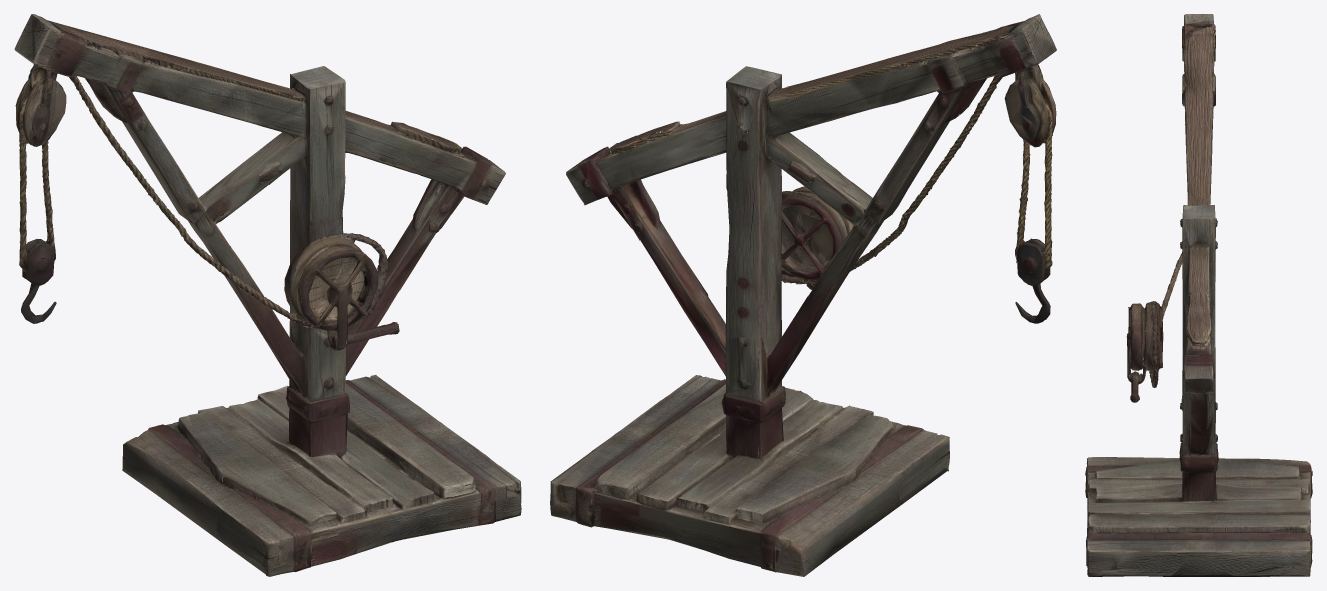
The model's file is timber-crane.glb.
3 renders of one model, left to right at view 1: azimuth 30°, elevation 25°; view 2: azimuth 150°, elevation 25°; view 3: azimuth 270°, elevation 25°, orthographic. The views are drawn at different scales.
Visible parts, largest first — view 1: Mesh_0; view 2: Mesh_0; view 3: Mesh_0.
Boxes of the visible parts, bbox=[...] form: Mesh_0: bbox=[14, 14, 521, 576]; Mesh_0: bbox=[550, 14, 1056, 576]; Mesh_0: bbox=[1085, 14, 1312, 576].
Size of the model in its own units: 1.75 by 1.9 by 0.9472.
1 material, 1 textured.
